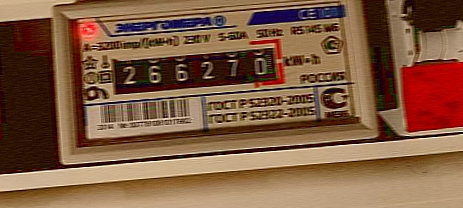0: (252, 55, 265, 77)
2: (120, 63, 136, 85), (199, 59, 212, 81)
6: (146, 64, 161, 84), (172, 62, 186, 82)
7: (224, 57, 238, 79)
screen: (100, 34, 291, 105)
